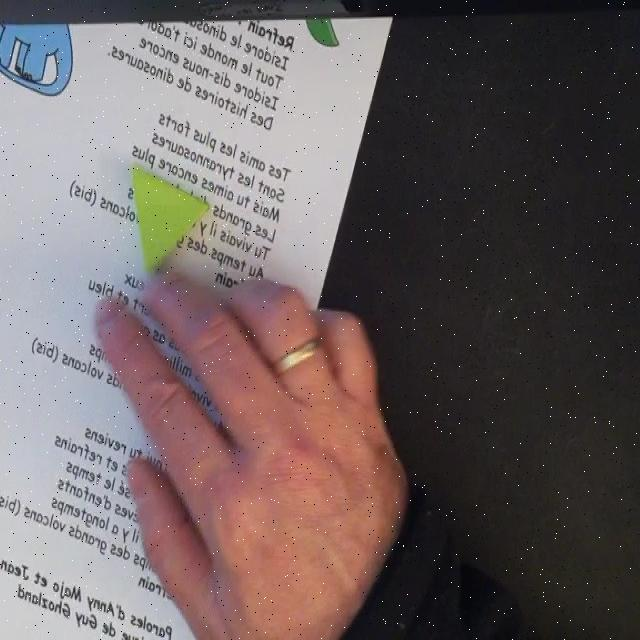triangle: (129, 166, 210, 278)
